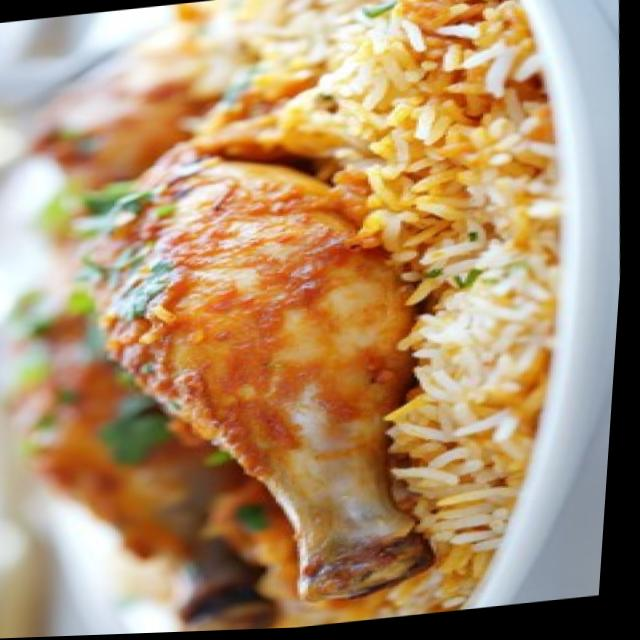BIRIYANI: (18, 0, 558, 629)
